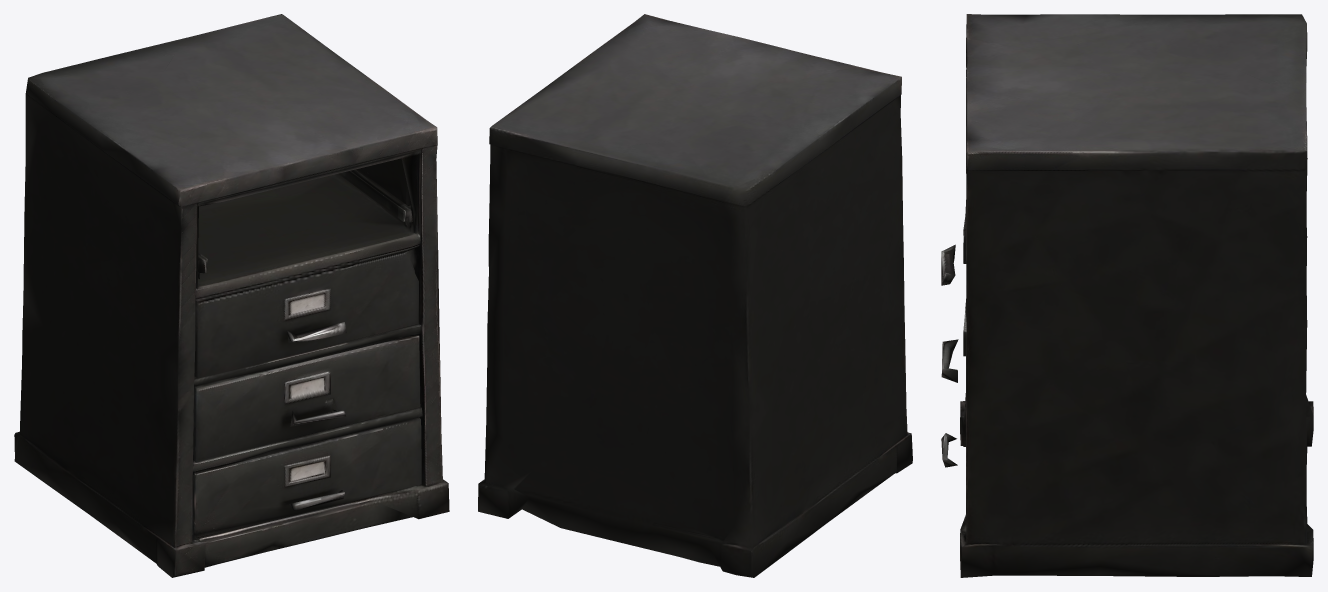
Rendered from wide+metal+filing+cabinet+3d+model.glb.
The picture shows the model from 3 angles, left to right: view 1: azimuth 30°, elevation 25°; view 2: azimuth 150°, elevation 25°; view 3: azimuth 270°, elevation 25°; orthographic projection. The views are drawn at different scales.
Visible parts, largest first — view 1: tripo_node_c37db183-f5e2-47e9-a1f8-8614cc35709e; view 2: tripo_node_c37db183-f5e2-47e9-a1f8-8614cc35709e; view 3: tripo_node_c37db183-f5e2-47e9-a1f8-8614cc35709e.
Boxes of the visible parts, <box> form: tripo_node_c37db183-f5e2-47e9-a1f8-8614cc35709e: <box>14,14,449,577</box>; tripo_node_c37db183-f5e2-47e9-a1f8-8614cc35709e: <box>478,14,912,577</box>; tripo_node_c37db183-f5e2-47e9-a1f8-8614cc35709e: <box>941,14,1313,577</box>.
Size of the model in its own units: 0.75 by 1 by 0.7997.
Materials: 1 (1 with a texture image).
